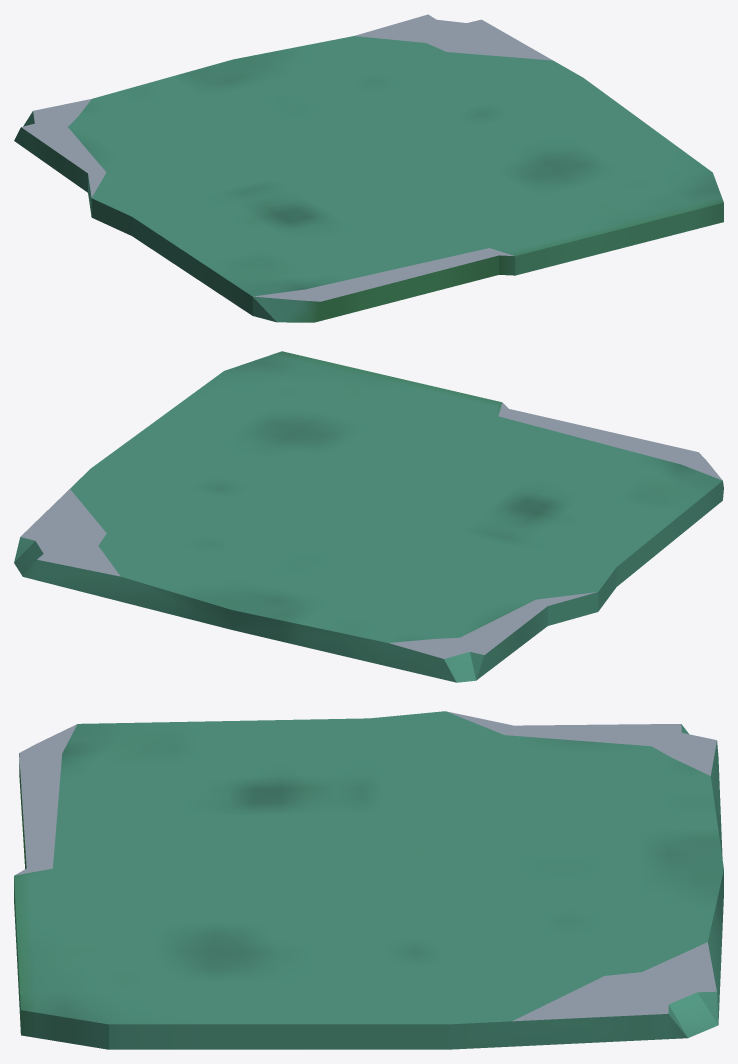
The model's file is DE_Guide_C_05.fbx.
3 renders of one model, top to bottom at view 1: azimuth 30°, elevation 25°; view 2: azimuth 150°, elevation 25°; view 3: azimuth 270°, elevation 25°, orthographic. The views are drawn at different scales.
Parts seen in each view (by area): view 1: DE_Guide_C_05; view 2: DE_Guide_C_05; view 3: DE_Guide_C_05.
Boxes of the visible parts, x1,y1,x2,y2 form: DE_Guide_C_05: (14,14,723,322); DE_Guide_C_05: (14,351,723,682); DE_Guide_C_05: (14,711,723,1049).
Bounding box in the file's own units: 212 × 8 × 203.
